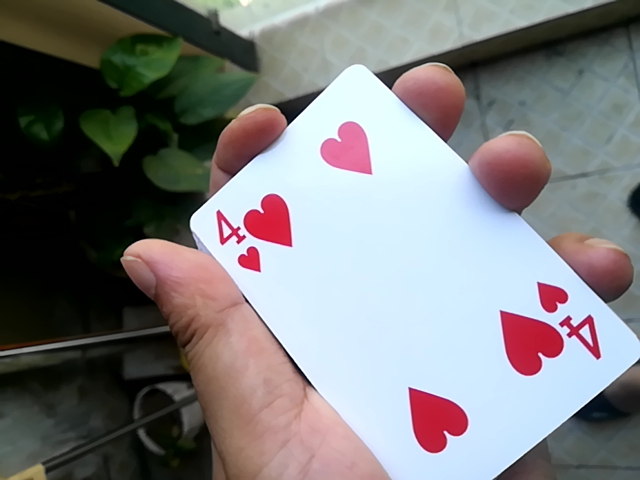hx 4: (174, 65, 629, 478)
